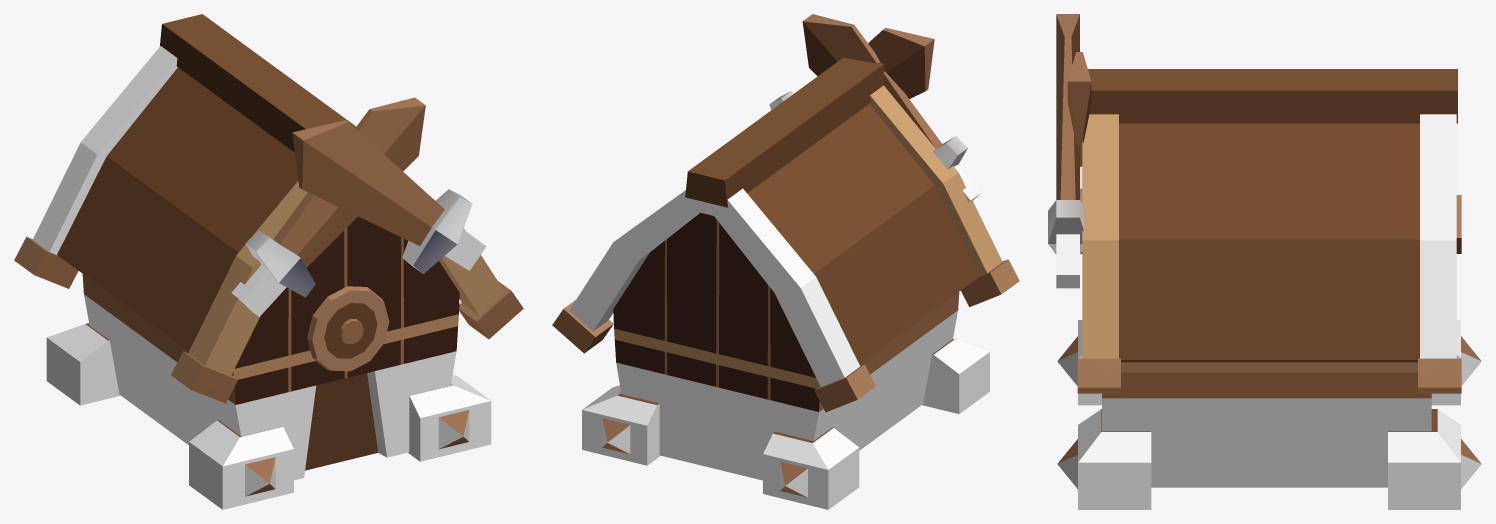
Rendered from Building_ArmyCamp_Lv5.fbx.
The picture shows the model from 3 angles, left to right: view 1: azimuth 30°, elevation 25°; view 2: azimuth 150°, elevation 25°; view 3: azimuth 270°, elevation 25°; orthographic projection. The views are drawn at different scales.
Parts seen in each view (by area): view 1: Building_ArmyCamp_Lv5; view 2: Building_ArmyCamp_Lv5; view 3: Building_ArmyCamp_Lv5.
Boxes of the visible parts, x1,y1,x2,y2 form: Building_ArmyCamp_Lv5: (14,14,523,509); Building_ArmyCamp_Lv5: (552,14,1019,509); Building_ArmyCamp_Lv5: (1048,14,1481,509).
Size of the model in its own units: 0.9763 by 1.02 by 1.01.
